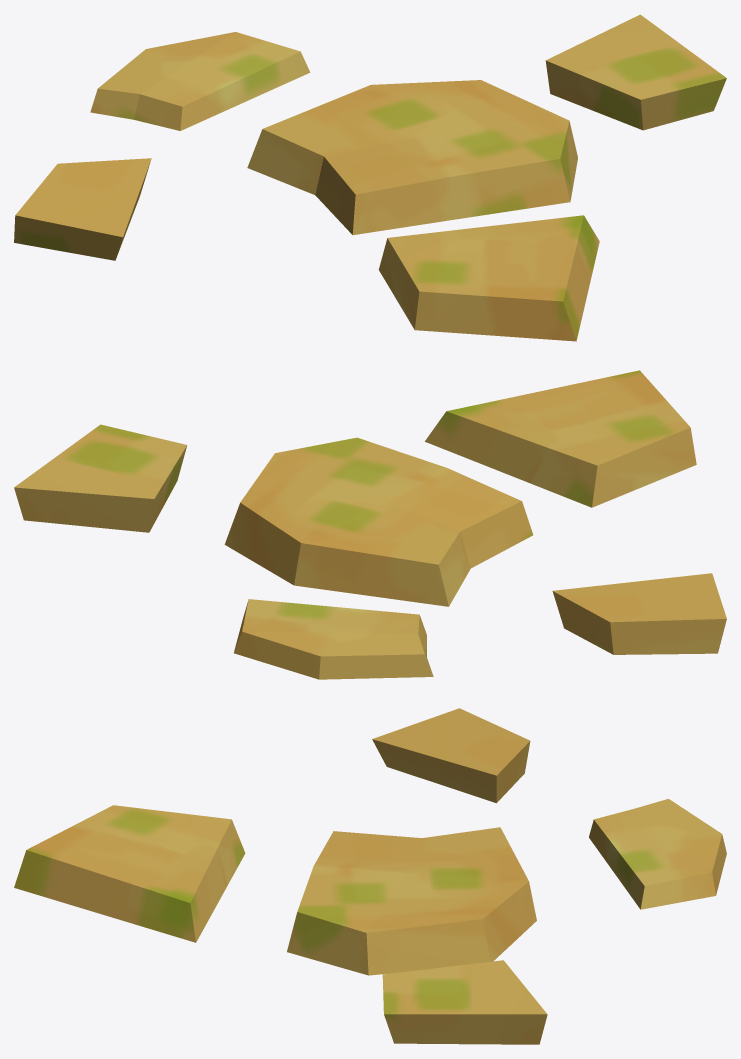
File: rock_tile_02.fbx
The picture shows the model from 3 angles, top to bottom: view 1: azimuth 30°, elevation 25°; view 2: azimuth 150°, elevation 25°; view 3: azimuth 270°, elevation 25°; orthographic projection. The views are drawn at different scales.
Parts seen in each view (by area): view 1: Cube; view 2: Cube; view 3: Cube.
Boxes of the visible parts, x1,y1,x2,y2 form: Cube: (14,14,726,341); Cube: (14,370,726,679); Cube: (14,708,726,1044).
Size of the model in its own units: 152 by 9.19 by 149.
